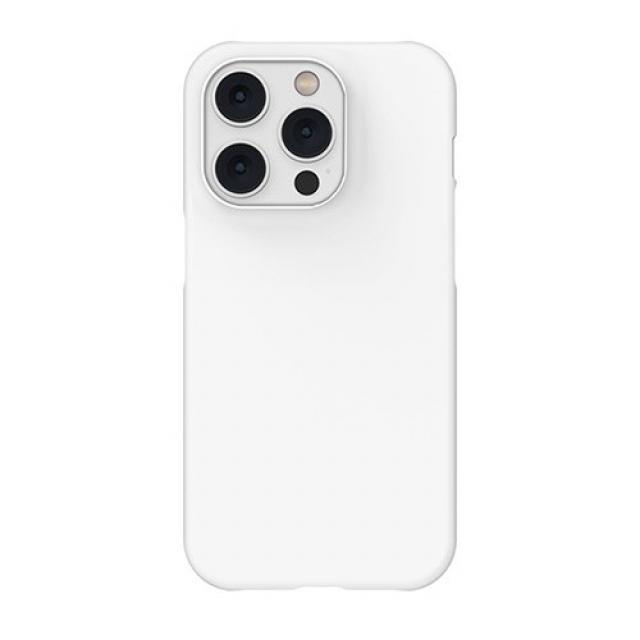phone: (179, 39, 458, 592)
